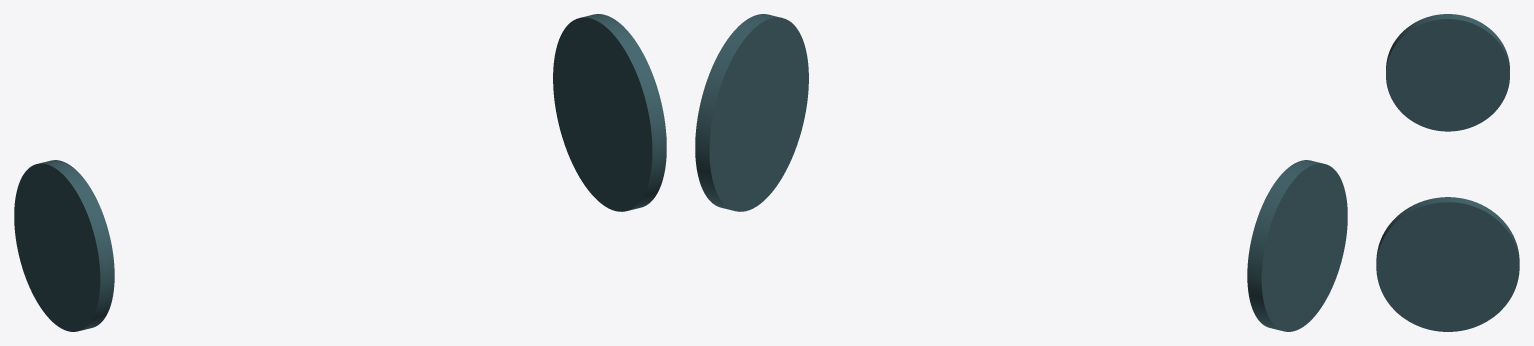
The model's file is SM_Magnifier_Glass.fbx.
3 renders of one model, left to right at view 1: azimuth 30°, elevation 25°; view 2: azimuth 150°, elevation 25°; view 3: azimuth 270°, elevation 25°, orthographic. The views are drawn at different scales.
Parts seen in each view (by area): view 1: SM_Magnifier_Glass; view 2: SM_Magnifier_Glass; view 3: SM_Magnifier_Glass.
Part boxes in pixels (x1,y1,x2,y2): SM_Magnifier_Glass: (14,14,666,331); SM_Magnifier_Glass: (695,14,1347,331); SM_Magnifier_Glass: (1376,14,1519,331).
Bounding box in the file's own units: 0.0226 × 0.0735 × 0.0226.
